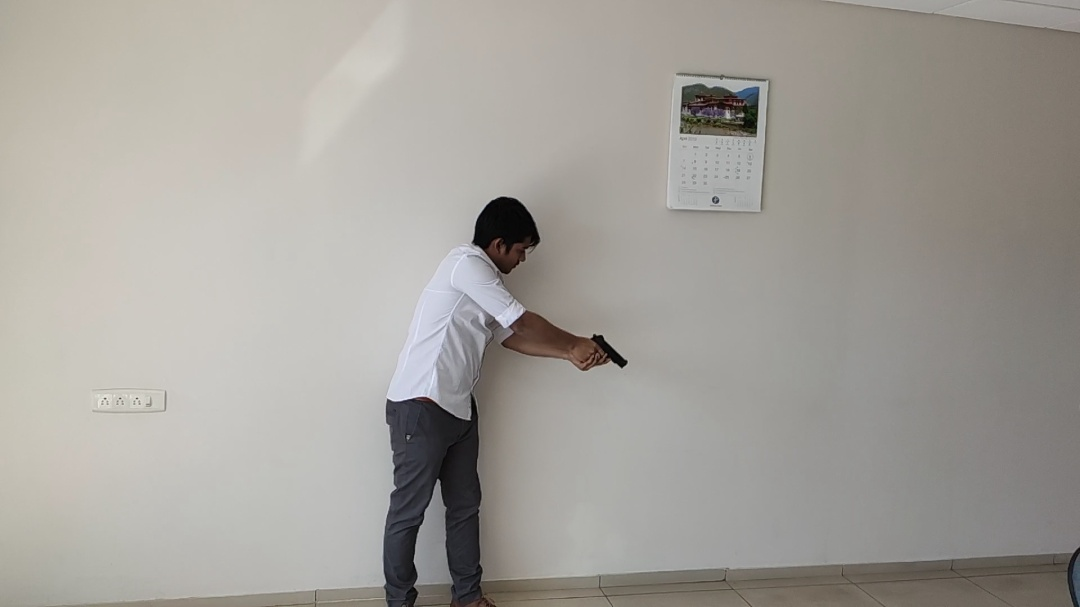gun: (590, 333, 629, 369)
